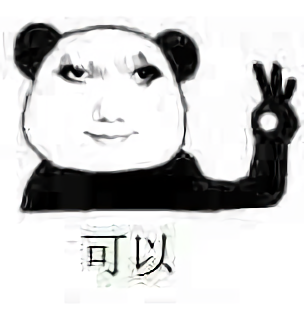dragon: (53, 59, 164, 147)
